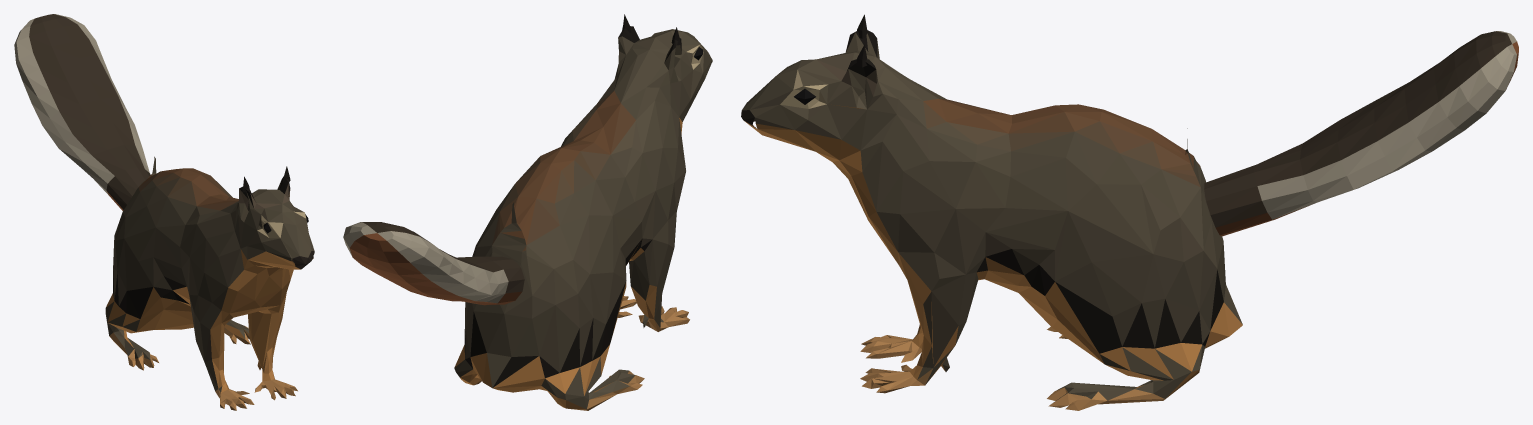
Rendered from douglas_squirrel.glb.
3 views of the same model, side by side, from view 1: azimuth 30°, elevation 25°; view 2: azimuth 150°, elevation 25°; view 3: azimuth 270°, elevation 25° (orthographic). The views are drawn at different scales.
Parts seen in each view (by area): view 1: lod0; view 2: lod0; view 3: lod0.
Boxes of the visible parts, x1=… form: lod0: x1=14, y1=14, x2=314, y2=410; lod0: x1=343, y1=14, x2=712, y2=410; lod0: x1=741, y1=14, x2=1518, y2=410.
Size of what is drawn, in the model's own units: 0.0708 by 0.1268 by 0.2633.
